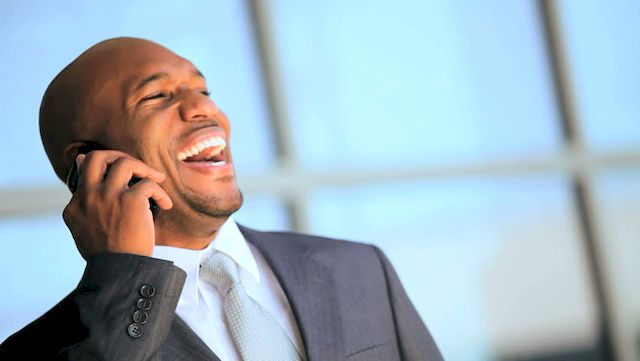phone: (72, 151, 172, 223)
talk: (59, 64, 244, 255)
